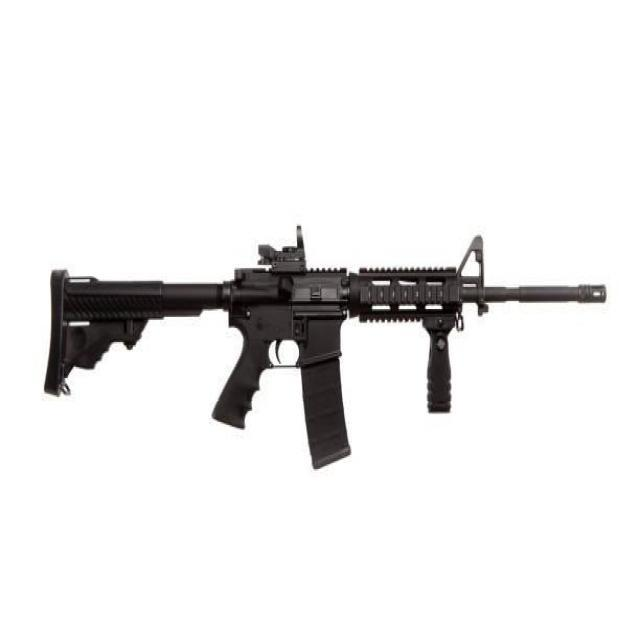weapon: (42, 224, 607, 472)
